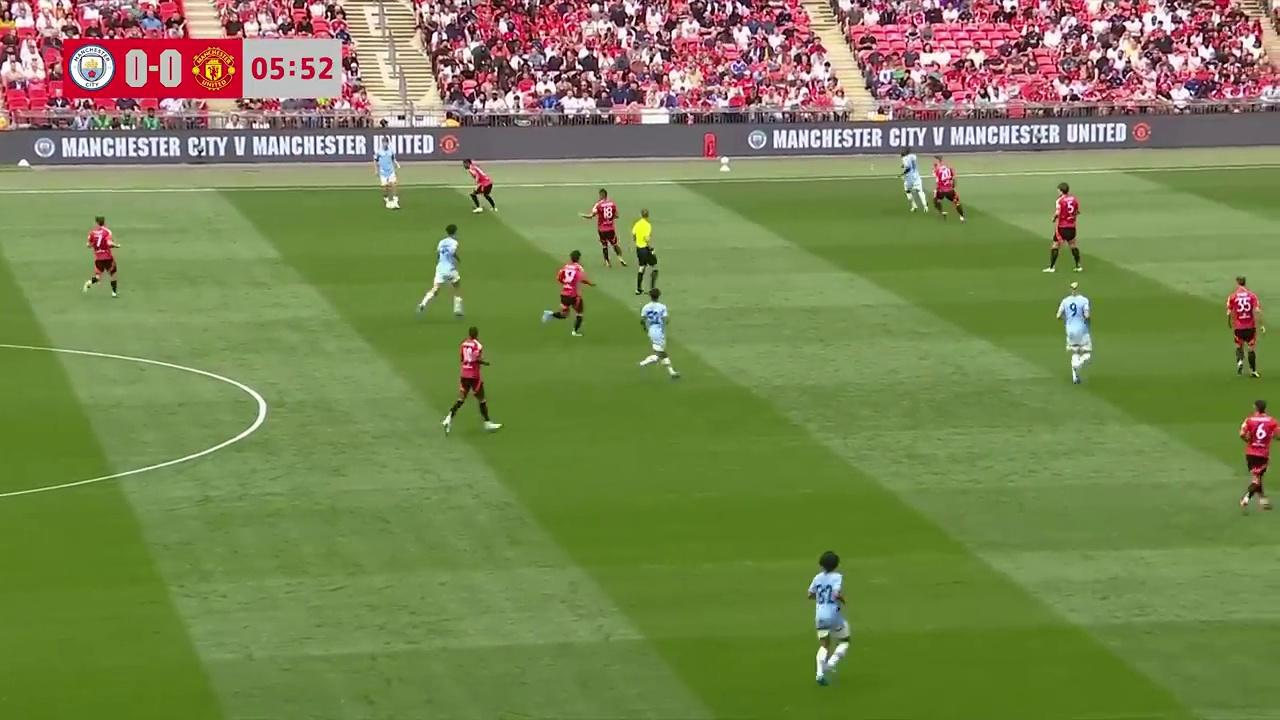ball: (389, 198, 399, 213)
player: (441, 325, 500, 434), (807, 551, 850, 684), (415, 224, 463, 318), (545, 250, 596, 337), (1238, 399, 1276, 514), (1225, 276, 1266, 378), (636, 288, 680, 383), (1055, 280, 1092, 382), (581, 188, 625, 268), (1043, 183, 1082, 273), (82, 216, 119, 297), (931, 156, 966, 221), (373, 138, 401, 209), (898, 150, 928, 213), (465, 160, 498, 213)
referee: (630, 208, 658, 294)
